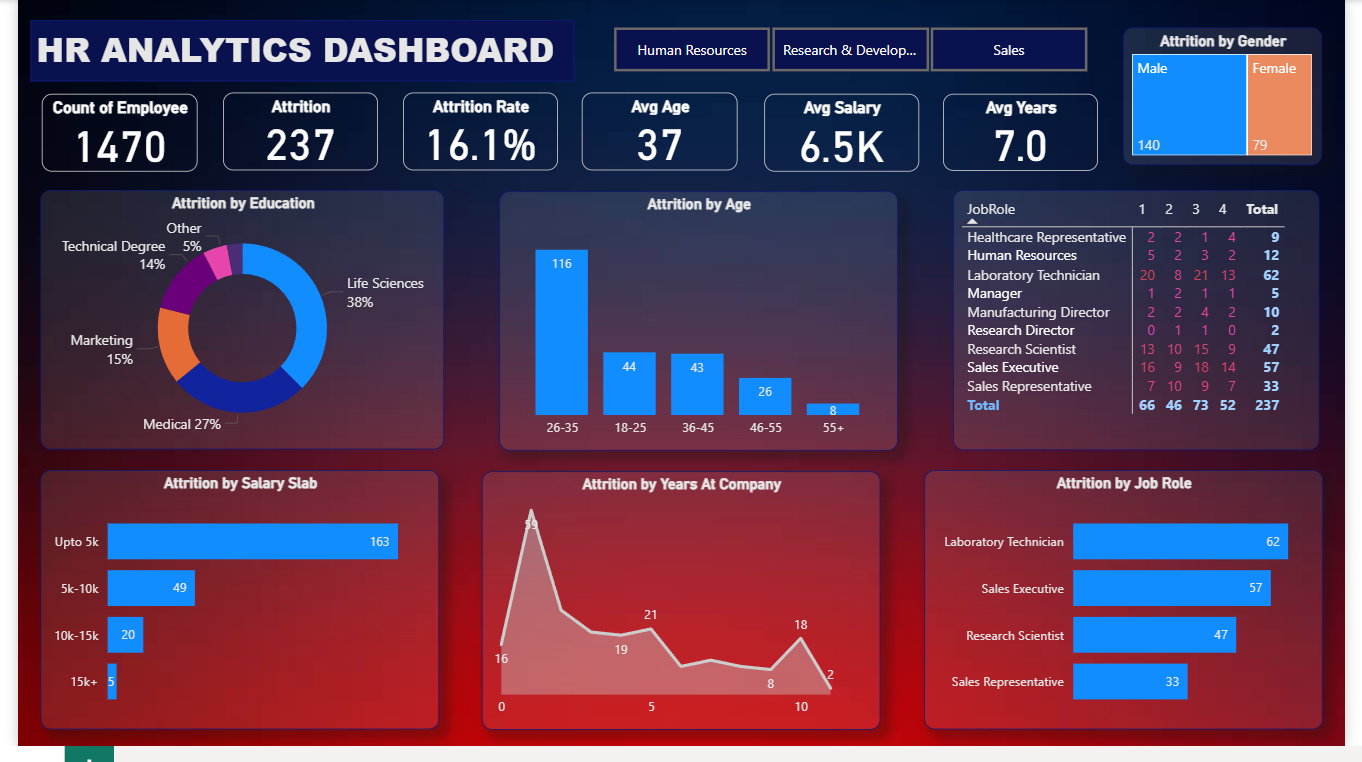

What the dashboard file says about the page in this screenshot:
{"tool":"powerbi","page":{"name":"Page 1","canvas":[1280,720],"ordinal":0},"visuals":[{"type":"card","title":"Count of Employee","fields":{"Values":["CountNonNull(HR_Analytics.EmpID)"]},"box":[22.9,90.1,150.6,75.3],"z":0},{"type":"card","title":"Attrition","fields":{"Values":["Sum(HR_Analytics.AttritionCount)"]},"box":[197.7,88.8,149.3,75.3],"z":1000},{"type":"card","title":"Attrition Rate","fields":{"Values":["HR_Analytics.AttritionRate"]},"box":[371.2,88.8,149.3,75.3],"z":2000},{"type":"card","title":"Avg Age","fields":{"Values":["Avg(HR_Analytics.Age)"]},"box":[544.7,88.8,150.6,75.3],"z":3000},{"type":"card","title":"Avg Salary","fields":{"Values":["Avg(HR_Analytics.MonthlyIncome)"]},"box":[720.8,90.1,149.3,75.3],"z":4000},{"type":"card","title":"Avg Years","fields":{"Values":["Avg(HR_Analytics.YearsAtCompany)"]},"box":[892.8,90.5,149.6,74.8],"z":5000},{"type":"donutChart","title":"Attrition by Education","fields":{"Category":["HR_Analytics.EducationField"],"Y":["Sum(HR_Analytics.AttritionCount)"]},"box":[21.5,182.9,390,250.1],"z":6000},{"type":"columnChart","title":"Attrition by Age","fields":{"Category":["HR_Analytics.AgeGroup"],"Y":["Sum(HR_Analytics.AttritionCount)"]},"box":[464,184.2,384.6,250.1],"z":7000},{"type":"pivotTable","fields":{"Rows":["HR_Analytics.JobRole"],"Columns":["HR_Analytics.JobSatisfaction"],"Values":["Sum(HR_Analytics.AttritionCount)"]},"box":[902.4,183.4,353.5,250.9],"z":8000},{"type":"barChart","title":"Attrition by Salary Slab","fields":{"Category":["HR_Analytics.SalarySlab"],"Y":["Sum(HR_Analytics.AttritionCount)"]},"box":[21.5,453.2,384.6,250.1],"z":9000},{"type":"barChart","title":"Attrition by Job Role","fields":{"Category":["HR_Analytics.JobRole"],"Y":["Sum(HR_Analytics.AttritionCount)"]},"box":[874.1,453.2,384.6,250.1],"z":10000},{"type":"areaChart","title":"Attrition by Years At Company","fields":{"Category":["HR_Analytics.YearsAtCompany"],"Y":["Sum(HR_Analytics.AttritionCount)"]},"box":[447.6,454.8,384.9,249.7],"z":11000},{"type":"treemap","title":"Attrition by Gender","fields":{"Group":["HR_Analytics.Gender"],"Values":["Sum(HR_Analytics.AttritionCount)"]},"box":[1066.5,26.5,191.8,132.7],"z":12000},{"type":"slicer","fields":{"Values":["HR_Analytics.Department"]},"box":[548.7,18.8,507,56.5],"z":13000},{"type":"textbox","box":[12.1,18.8,524.5,59.2],"z":14000}]}

Visuals, with their boxes in screenshot pixels (x1, y1, x2, y2), scaled from the page's 1280x720 canvas onto the 1362x762 screenshot:
"Count of Employee" card: (24,95,185,175)
"Attrition" card: (210,94,369,174)
"Attrition Rate" card: (395,94,554,174)
"Avg Age" card: (580,94,740,174)
"Avg Salary" card: (767,95,926,175)
"Avg Years" card: (950,96,1109,175)
"Attrition by Education" donutChart: (23,194,438,458)
"Attrition by Age" columnChart: (494,195,903,460)
pivotTable - HR_Analytics.JobRole x HR_Analytics.JobSatisfaction: (960,194,1336,460)
"Attrition by Salary Slab" barChart: (23,480,432,744)
"Attrition by Job Role" barChart: (930,480,1339,744)
"Attrition by Years At Company" areaChart: (476,481,886,746)
"Attrition by Gender" treemap: (1135,28,1339,168)
slicer - HR_Analytics.Department: (584,20,1123,80)
textbox: (13,20,571,83)
